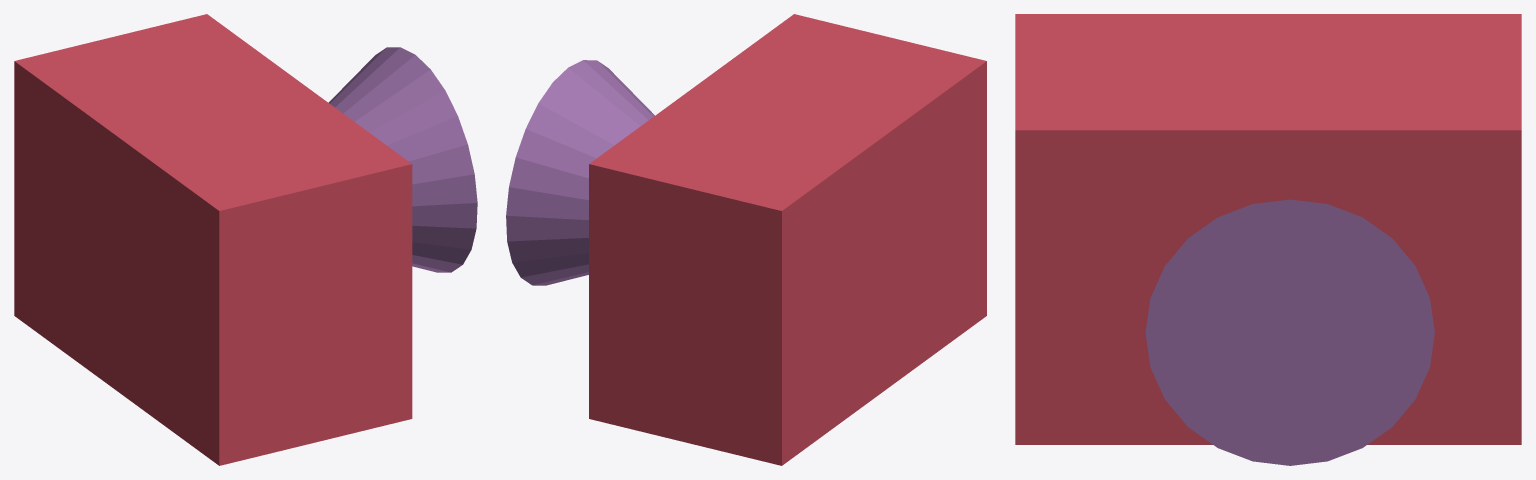
Rendered from Learning the Moves.glb.
3 renders of one model, left to right at view 1: azimuth 30°, elevation 25°; view 2: azimuth 150°, elevation 25°; view 3: azimuth 270°, elevation 25°, orthographic. The views are drawn at different scales.
Parts seen in each view (by area): view 1: Mesh_Mesh_head_geo.001_lambert2SG.001; view 2: Mesh_Mesh_head_geo.001_lambert2SG.001; view 3: Mesh_Mesh_head_geo.001_lambert2SG.001.
Part boxes in pixels (x1,y1,x2,y2): Mesh_Mesh_head_geo.001_lambert2SG.001: (14,14,477,465); Mesh_Mesh_head_geo.001_lambert2SG.001: (506,14,986,465); Mesh_Mesh_head_geo.001_lambert2SG.001: (1015,14,1521,465).
Bounding box in the file's own units: 31 × 24 × 35.
